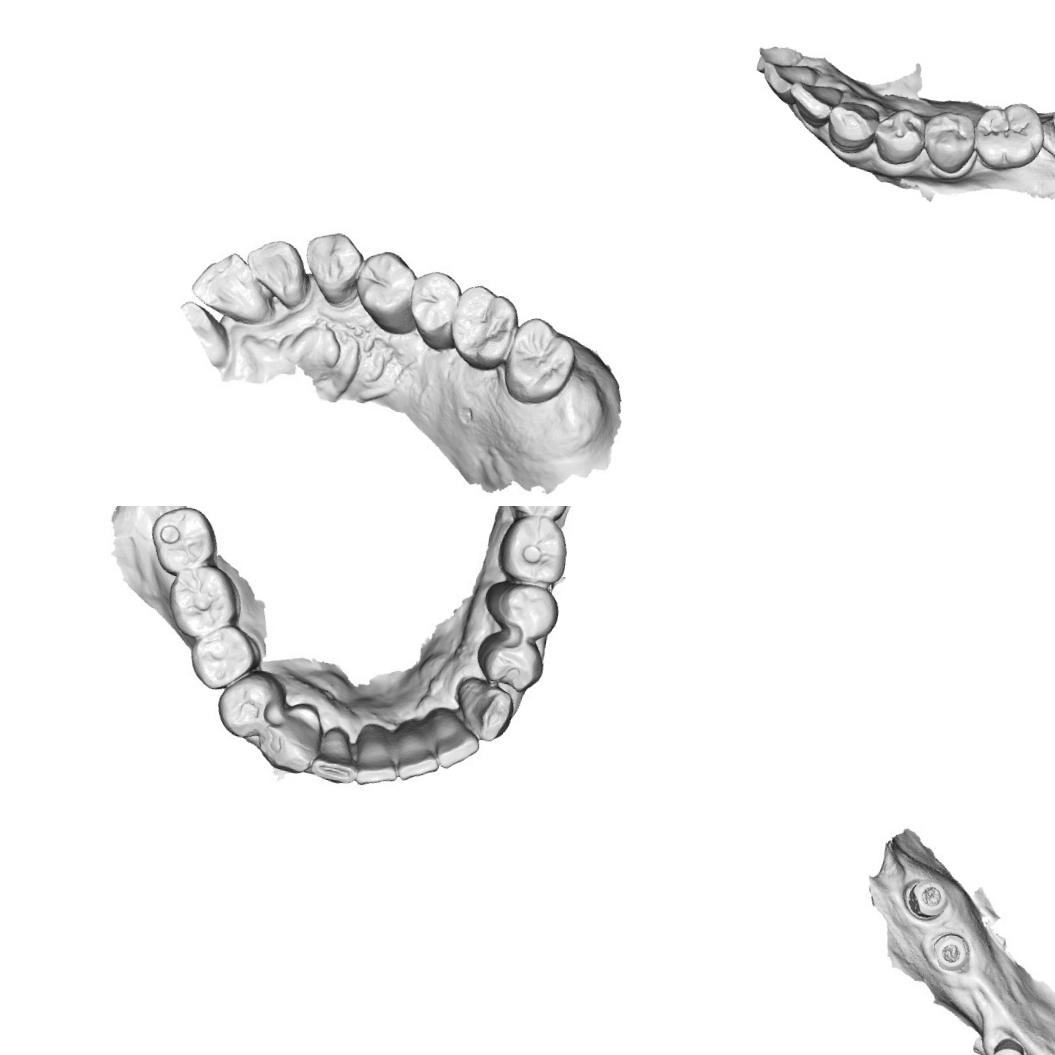canine: (255, 695, 326, 777), (297, 226, 366, 310), (455, 682, 519, 748), (822, 92, 883, 158)
implant: (898, 871, 954, 928), (926, 923, 976, 976), (985, 1033, 1031, 1055)
incisor: (185, 244, 278, 327), (239, 234, 309, 310), (756, 57, 820, 108), (352, 724, 402, 788), (392, 718, 441, 782), (783, 78, 843, 130), (427, 709, 477, 765), (310, 724, 356, 782)
molar: (496, 312, 582, 412), (444, 279, 524, 375), (970, 98, 1049, 176), (171, 566, 238, 638), (149, 506, 220, 572), (505, 514, 568, 581), (512, 506, 568, 519)
premolar: (348, 246, 426, 337), (404, 266, 466, 348), (215, 670, 280, 738), (190, 622, 254, 687), (918, 108, 978, 176), (868, 106, 930, 171), (485, 637, 545, 694), (502, 582, 560, 640)
